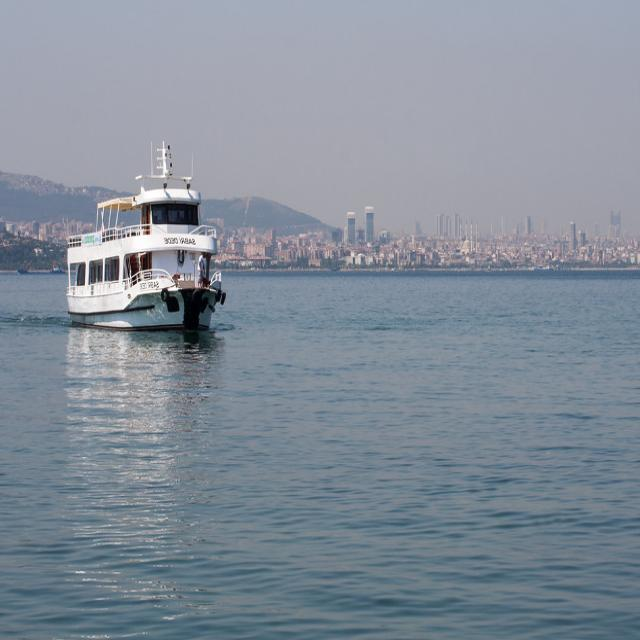passenger ship: (50, 159, 244, 324)
